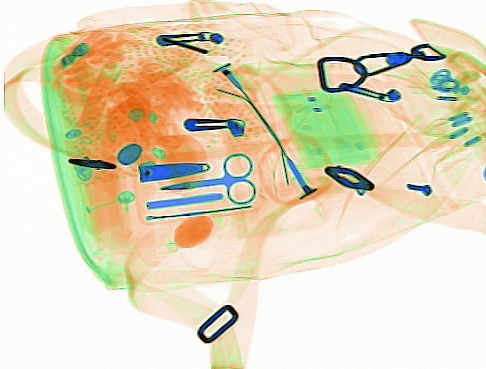scissors: (155, 150, 258, 206)
